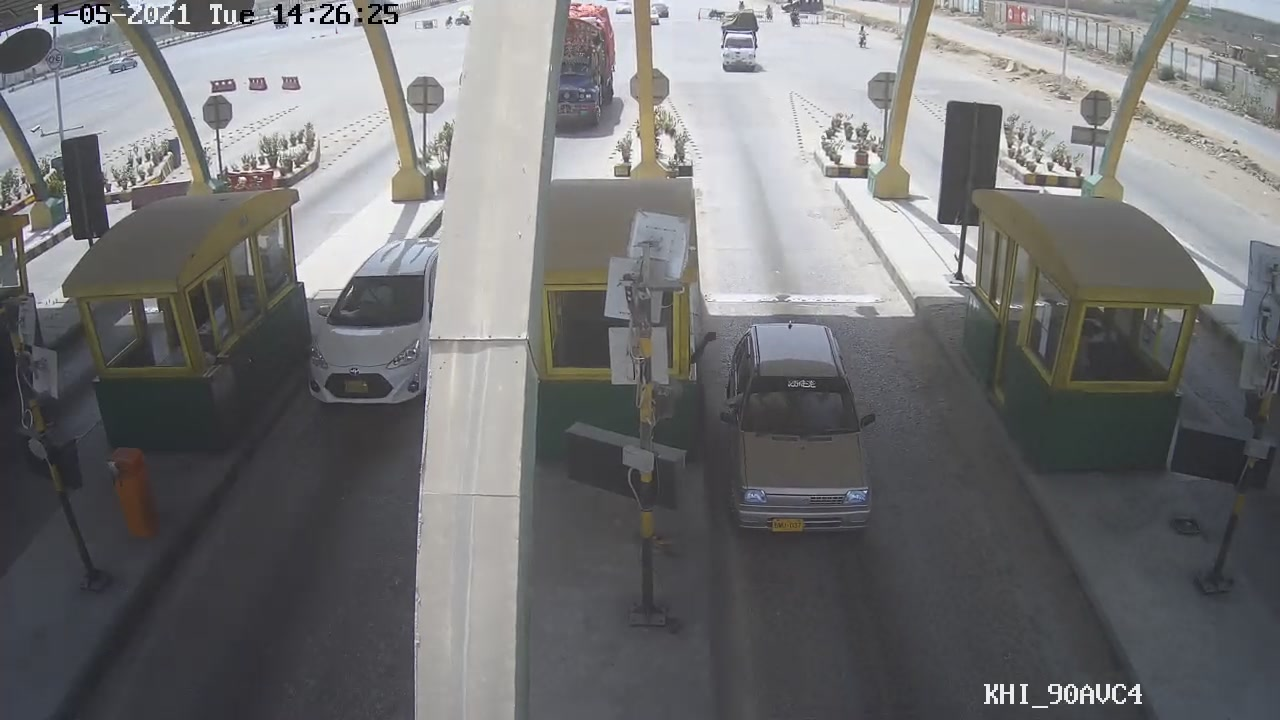F1: (714, 311, 887, 548)
